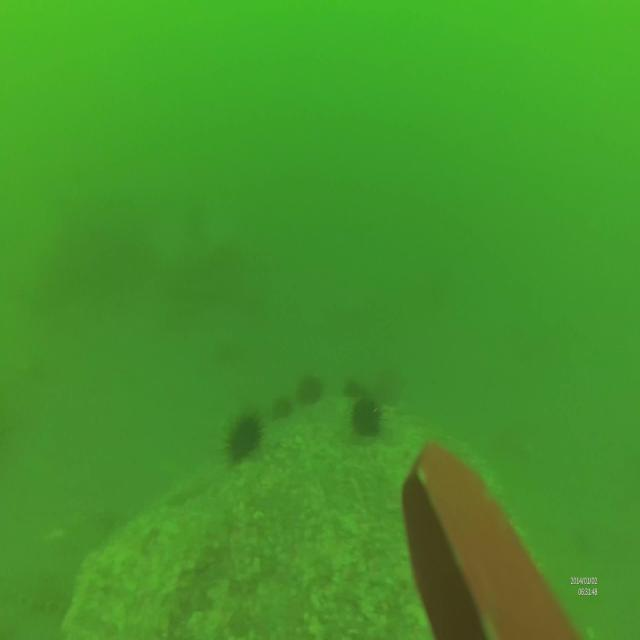echinus: (222, 411, 264, 463), (351, 400, 383, 436), (342, 374, 370, 407), (297, 373, 324, 405), (270, 394, 294, 423)
